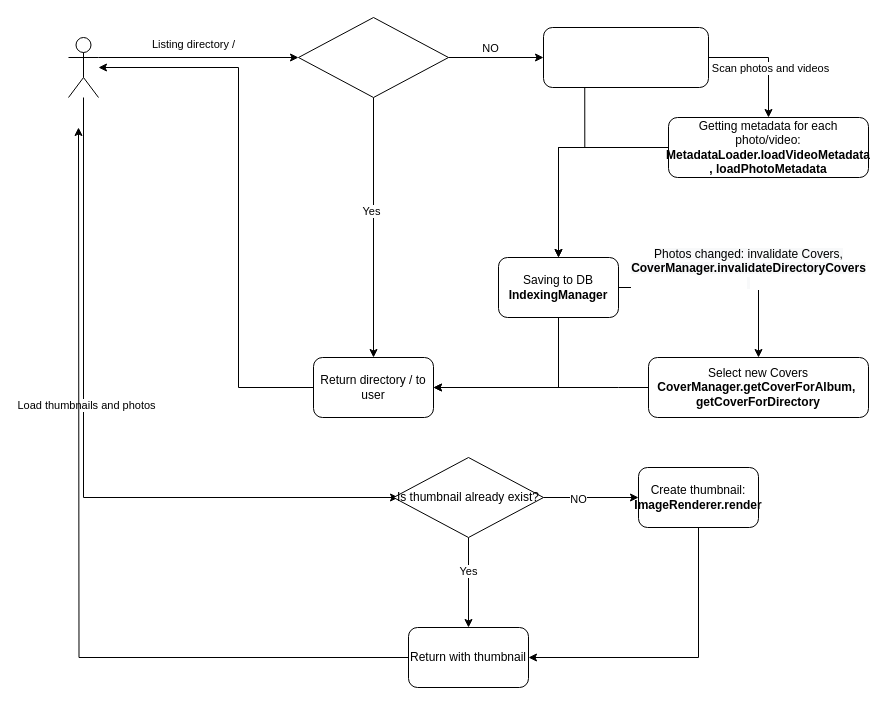
The diagram is 888 pixels wide and 705 high, and some of its shapes have lost their labels. Here are the shapes that lost their labels. From the top down, the box of each, then its label:
(68, 36, 98, 98): Actor
(298, 16, 448, 98): Is directory / already indexed ?
(542, 26, 708, 88): Scanning directory: DiskManager.scanDirectory
